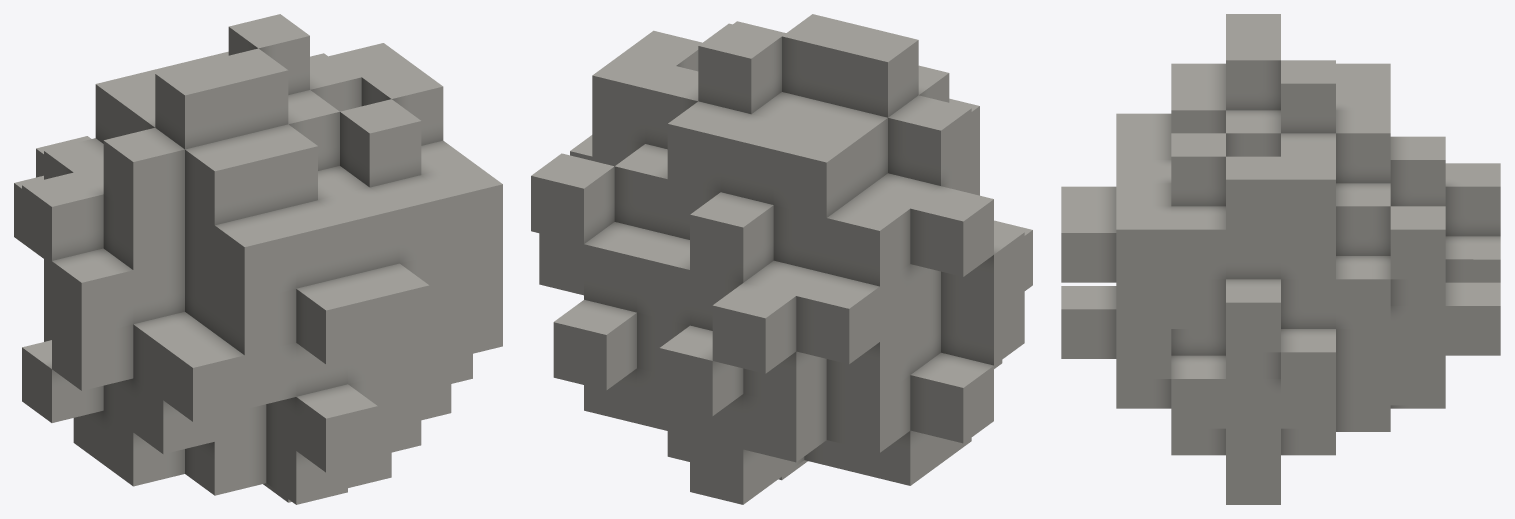
The model's file is cm_puff_l.glb.
The picture shows the model from 3 angles, left to right: view 1: azimuth 30°, elevation 25°; view 2: azimuth 150°, elevation 25°; view 3: azimuth 270°, elevation 25°; orthographic projection. The views are drawn at different scales.
Visible parts, largest first — view 1: cm_puff_l_body; view 2: cm_puff_l_body; view 3: cm_puff_l_body.
Boxes of the visible parts, x1,y1,x2,y2 form: cm_puff_l_body: (14, 14, 502, 504); cm_puff_l_body: (531, 14, 1032, 504); cm_puff_l_body: (1061, 14, 1500, 504).
Bounding box in the file's own units: 1 × 1 × 1.
Materials: 1 (1 with a texture image).
